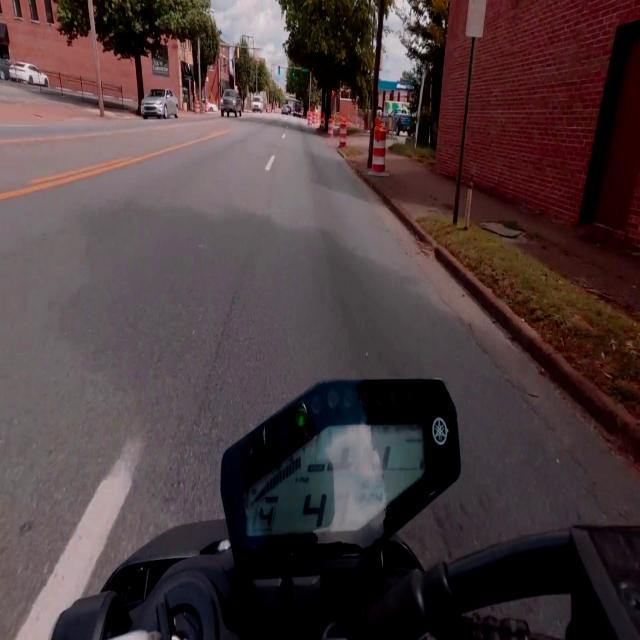car: (141, 89, 178, 119), (221, 89, 242, 116), (252, 96, 264, 112), (282, 104, 291, 114)
motorcycle: (51, 380, 639, 639)
